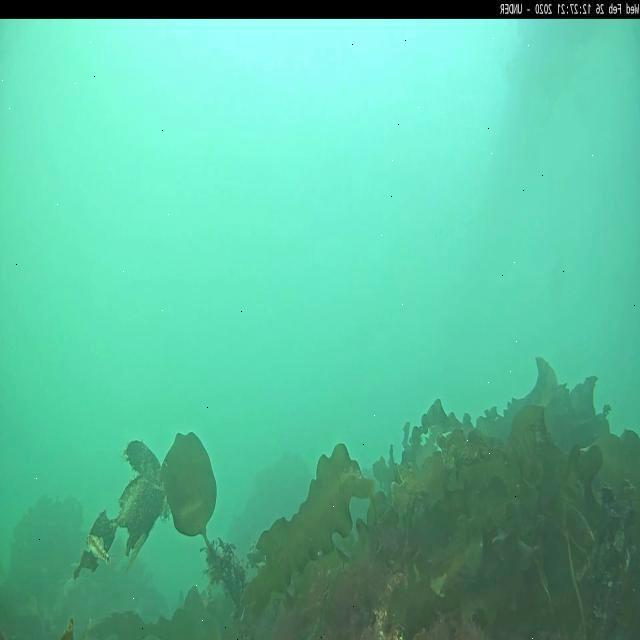fish: (84, 535, 110, 564)
